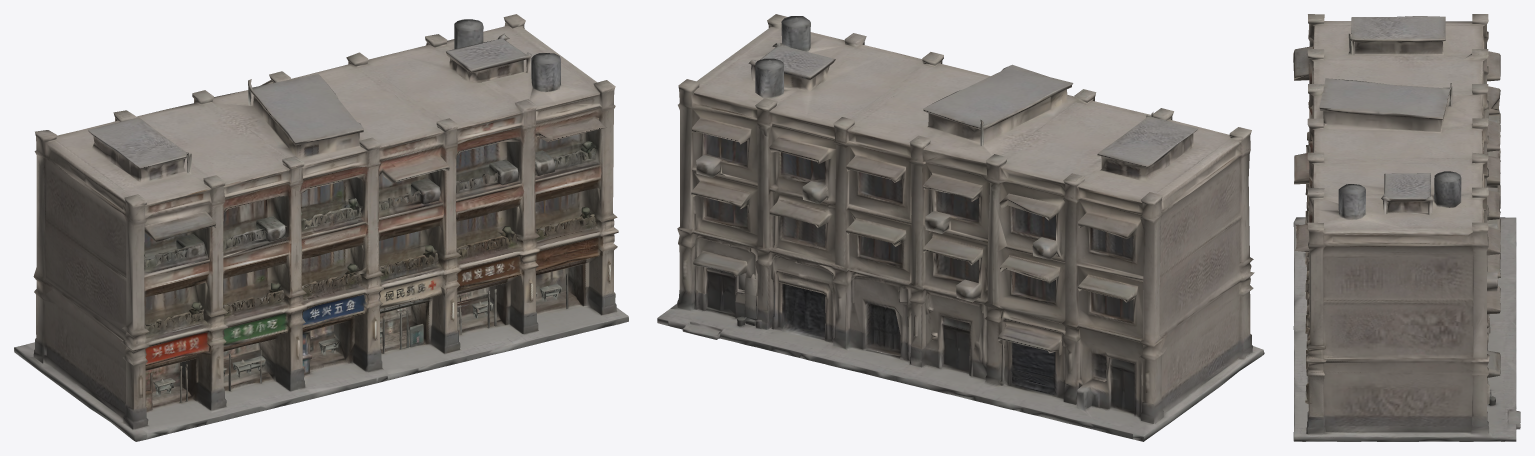
The model's file is three_story_60.glb.
3 views of the same model, side by side, from view 1: azimuth 30°, elevation 25°; view 2: azimuth 150°, elevation 25°; view 3: azimuth 270°, elevation 25° (orthographic). The views are drawn at different scales.
Parts seen in each view (by area): view 1: tripo_node_d9a20044-e7ed-4b55-8355-1e9b68825049; view 2: tripo_node_d9a20044-e7ed-4b55-8355-1e9b68825049; view 3: tripo_node_d9a20044-e7ed-4b55-8355-1e9b68825049.
Boxes of the visible parts, left/top/right/bottom form: tripo_node_d9a20044-e7ed-4b55-8355-1e9b68825049: left=14, top=14, right=628, bottom=441; tripo_node_d9a20044-e7ed-4b55-8355-1e9b68825049: left=657, top=14, right=1264, bottom=441; tripo_node_d9a20044-e7ed-4b55-8355-1e9b68825049: left=1293, top=14, right=1520, bottom=441.
Size of the model in its own units: 0.981 by 0.4905 by 0.4288.
Materials: 1 (1 with a texture image).
